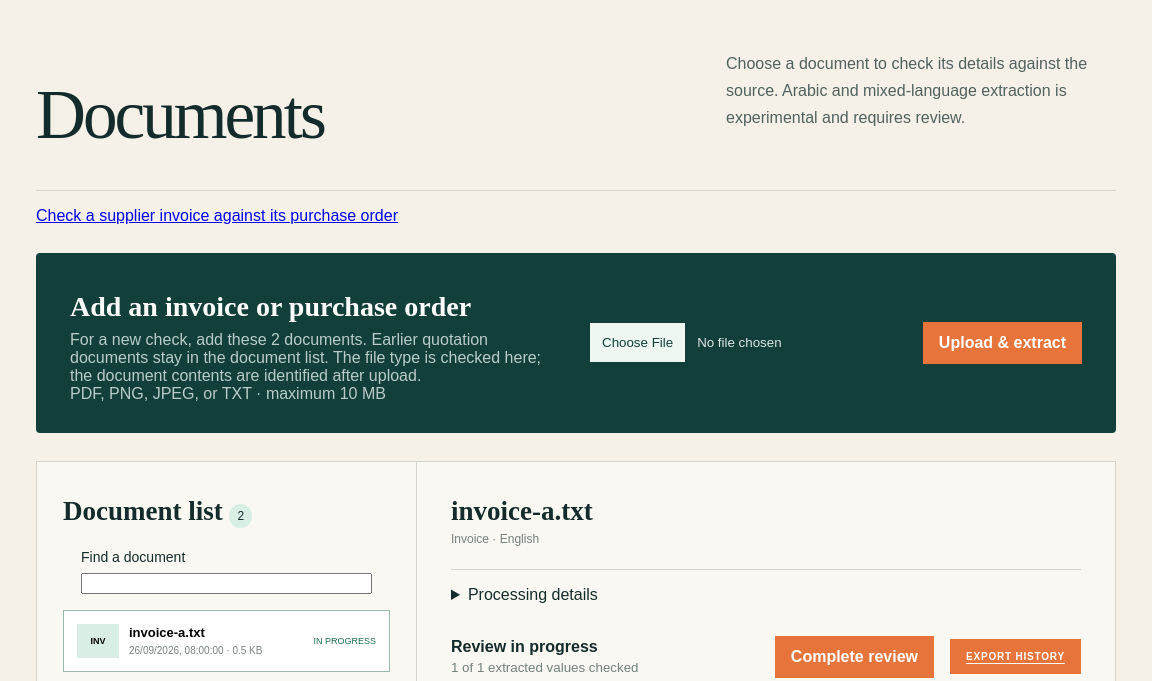
Test case: document selection isolates asynchronous review work › keeps the current selection when a pending Complete review finishes for the previous document
The image size is (1152, 681).
What coordinates should you click on to do the following:
click the button "Complete review"
I would click on:
 (854, 657)
Its box is [775,636,934,678].
(page scrolled)
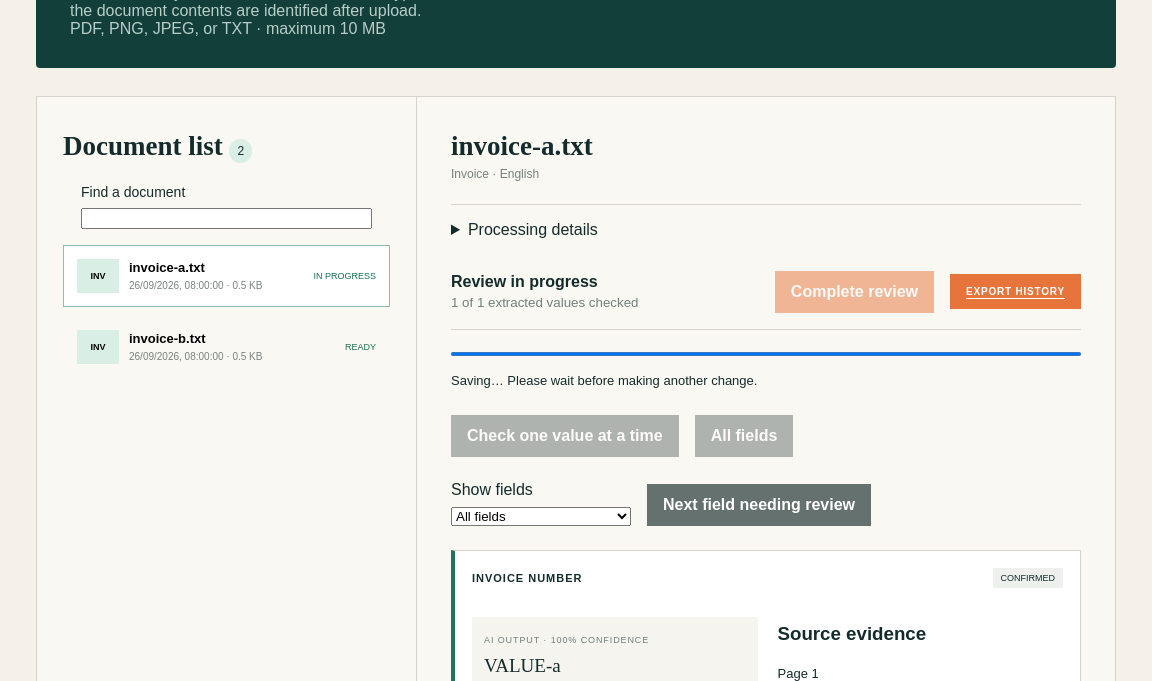
What coordinates should you click on to do the following:
click the button "INV invoice-b.txt 26/09/2026, 08:00:00 · 0.5 KB Ready"
I would click on:
 (98, 347)
Its box is [63,316,390,378].
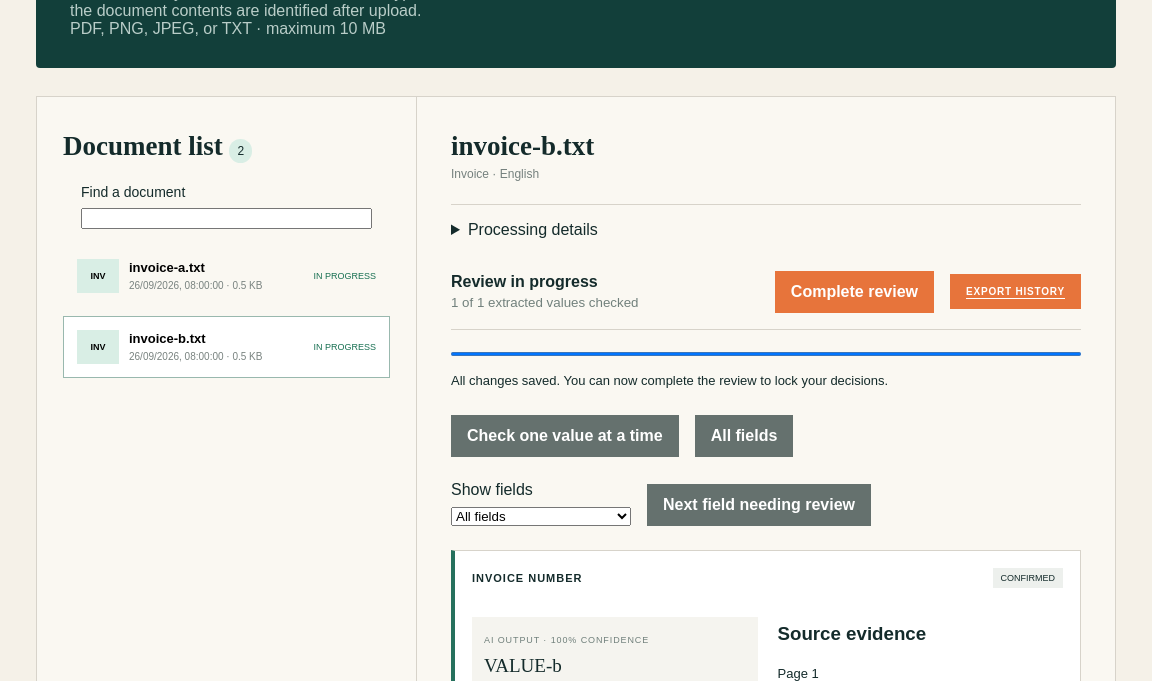
Check: the heading "invoice-b.txt" is shown, box [451,131,594,162]
Check: the text "VALUE-a" is gone
Check: the button "Complete review" is enabled, box [775,271,934,313]
